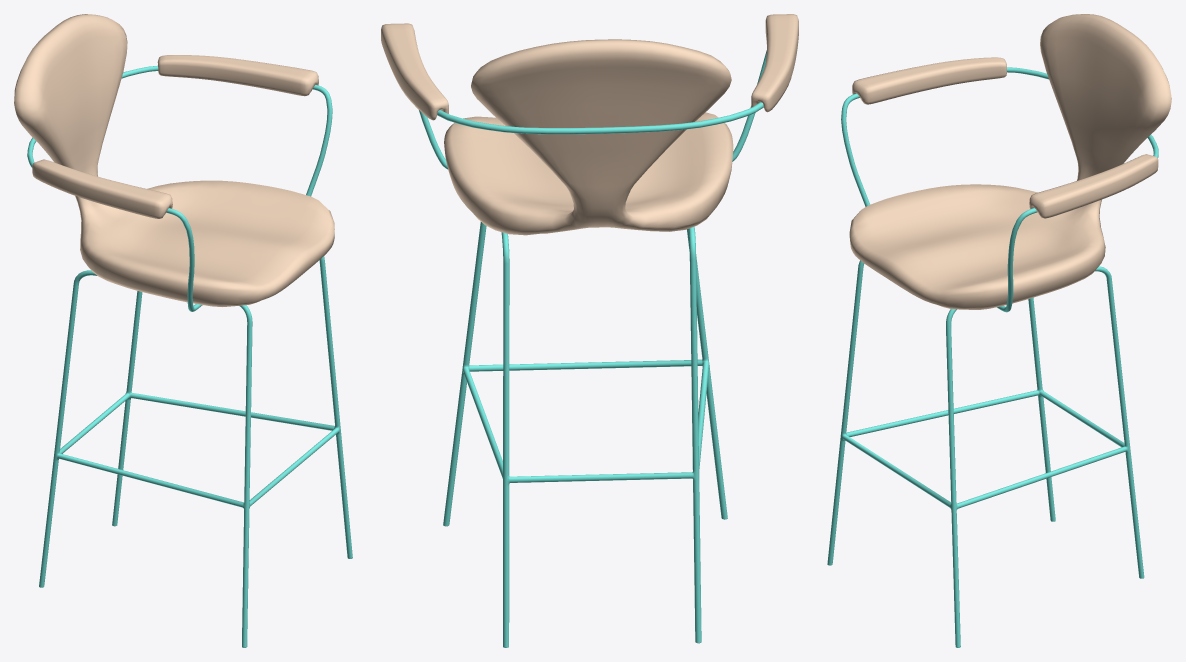
The model's file is stolica.glb.
3 views of the same model, side by side, from view 1: azimuth 30°, elevation 25°; view 2: azimuth 150°, elevation 25°; view 3: azimuth 270°, elevation 25° (orthographic). The views are drawn at different scales.
Visible parts, largest first — view 1: sediste_LP002, noge_LP002, rucke_LP002; view 2: sediste_LP002, noge_LP002, rucke_LP002; view 3: sediste_LP002, noge_LP002, rucke_LP002.
Boxes of the visible parts, x1,y1,x2,y2 form: sediste_LP002: [14, 14, 334, 306]; noge_LP002: [27, 65, 352, 647]; rucke_LP002: [32, 55, 318, 218]; sediste_LP002: [444, 39, 733, 235]; noge_LP002: [419, 50, 766, 647]; rucke_LP002: [381, 14, 798, 120]; sediste_LP002: [849, 14, 1171, 309]; noge_LP002: [827, 67, 1158, 647]; rucke_LP002: [852, 57, 1158, 218].
Size of the model in its own units: 0.643 by 1.04 by 0.6299.
